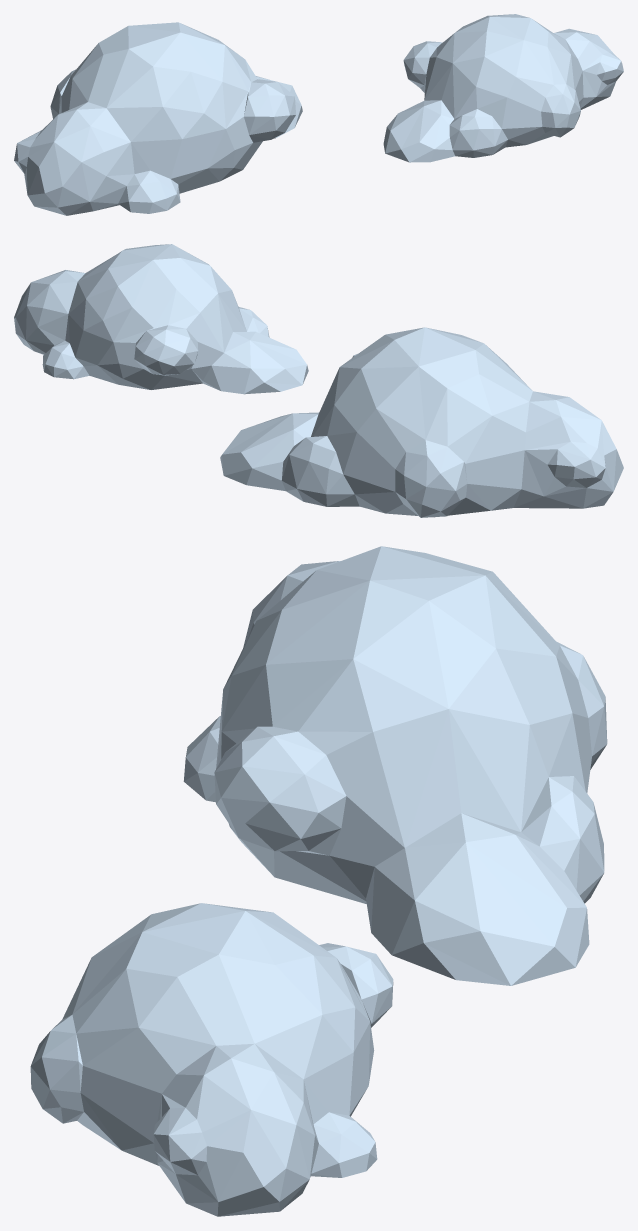
The model's file is FewClouds.gltf.
3 renders of one model, top to bottom at view 1: azimuth 30°, elevation 25°; view 2: azimuth 150°, elevation 25°; view 3: azimuth 270°, elevation 25°, orthographic. The views are drawn at different scales.
Parts seen in each view (by area): view 1: Icosphere.005, Icosphere.000; view 2: Icosphere.005, Icosphere.000; view 3: Icosphere.005, Icosphere.000.
Boxes of the visible parts, x1=… form: Icosphere.005: x1=14, y1=22, x2=302, y2=215; Icosphere.000: x1=383, y1=14, x2=623, y2=162; Icosphere.005: x1=220, y1=327, x2=623, y2=517; Icosphere.000: x1=14, y1=244, x2=308, y2=394; Icosphere.005: x1=183, y1=546, x2=607, y2=985; Icosphere.000: x1=30, y1=903, x2=393, y2=1216.
Size of the model in its own units: 3.08 by 0.7082 by 1.37.
